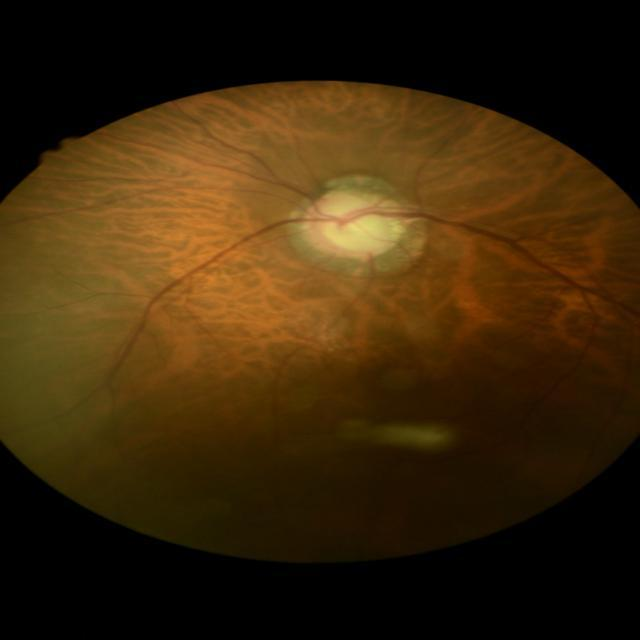cup: (320, 198, 388, 248)
disk: (302, 187, 402, 260)
